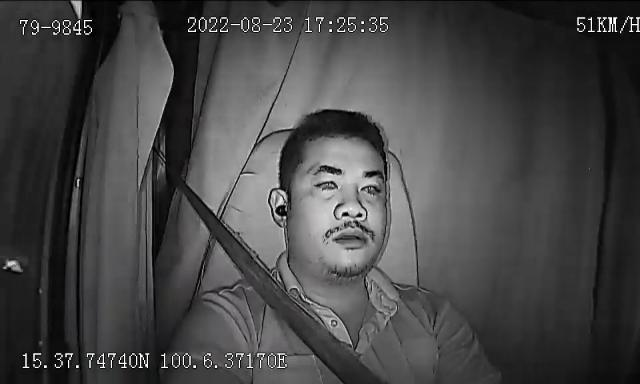SafeDriving: (309, 168, 342, 196), (356, 174, 387, 200)
Seatbelt: (177, 176, 387, 384)
